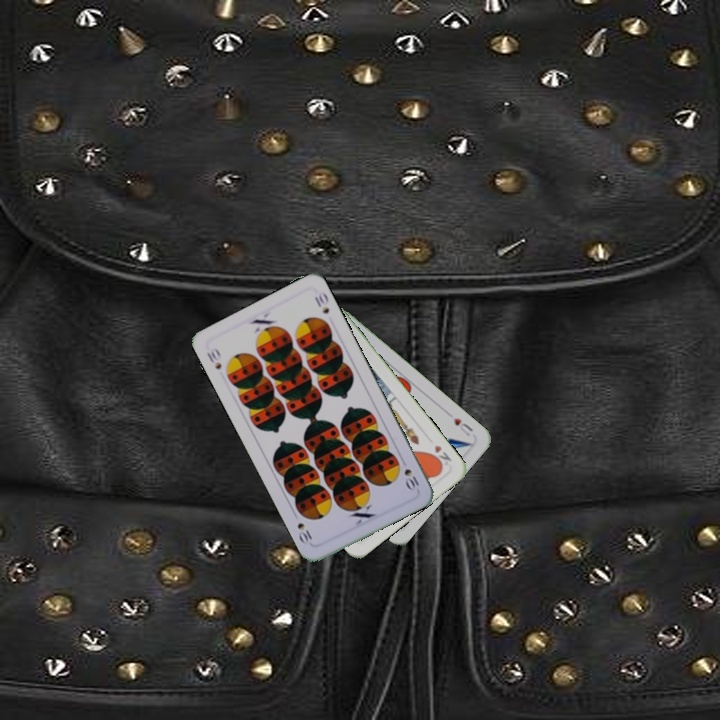HK: (427, 441, 454, 471)
HU: (449, 414, 476, 438)
S10: (400, 464, 422, 494), (203, 344, 224, 372)
